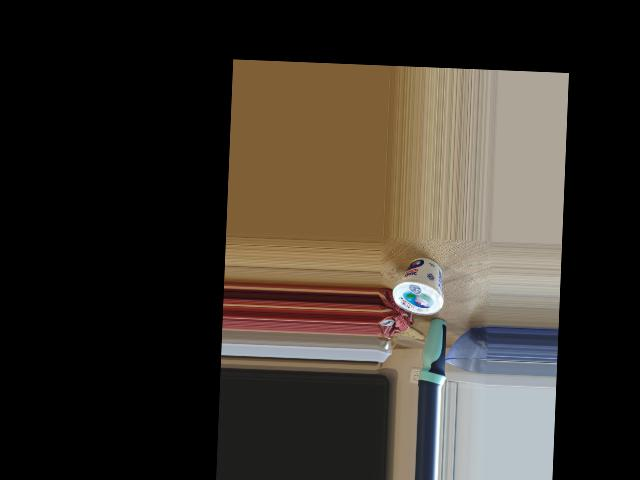cotage: (400, 254, 448, 319)
